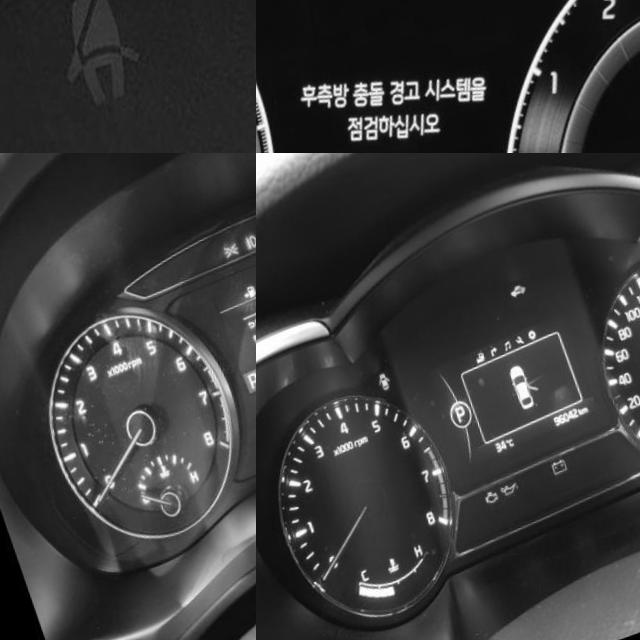Doors: (364, 379, 380, 401)
FrontFogLight: (235, 245, 251, 263)
SideLamp: (213, 252, 232, 271)
